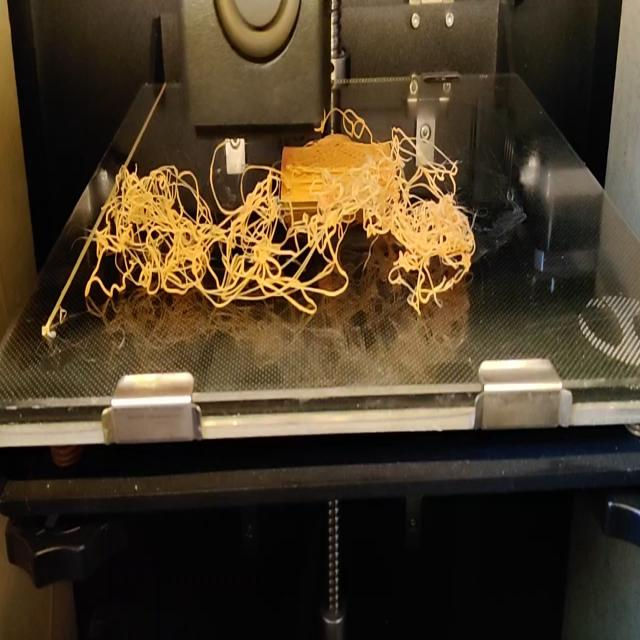spaghetti: (81, 141, 249, 311), (365, 125, 475, 315), (251, 149, 365, 320), (318, 98, 368, 138)
